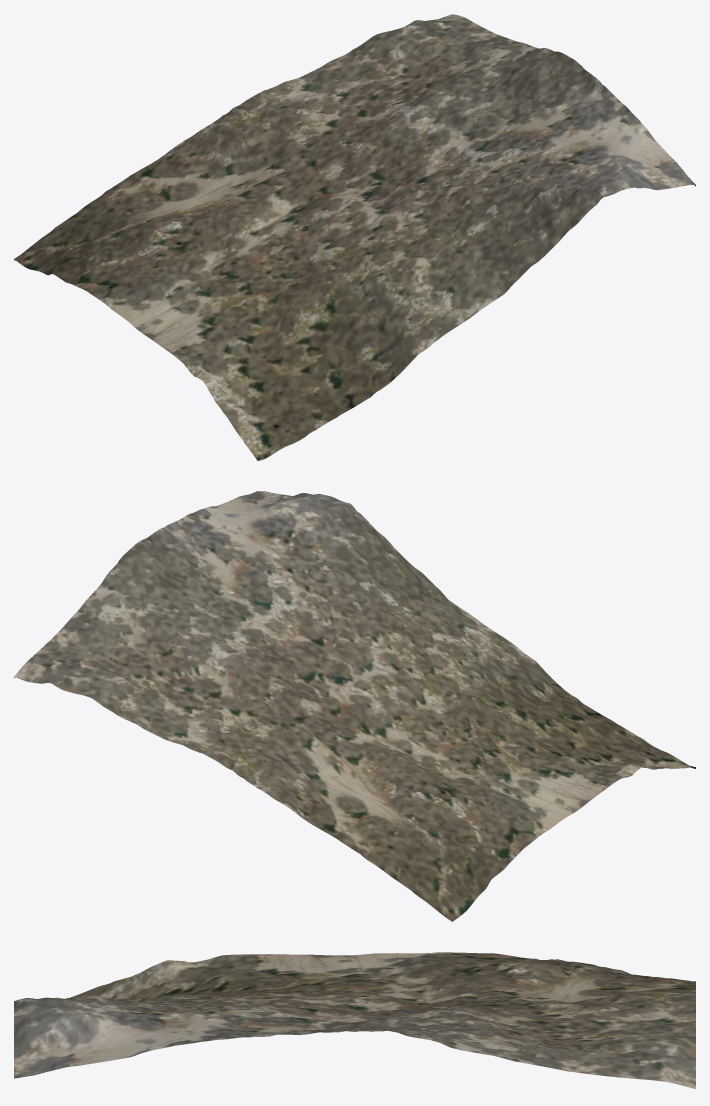
The picture shows the model from 3 angles, top to bottom: view 1: azimuth 30°, elevation 25°; view 2: azimuth 150°, elevation 25°; view 3: azimuth 270°, elevation 25°; orthographic projection. The views are drawn at different scales.
Size of the model in its own units: 250 by 113 by 241.
Materials: 1 (1 with a texture image).
